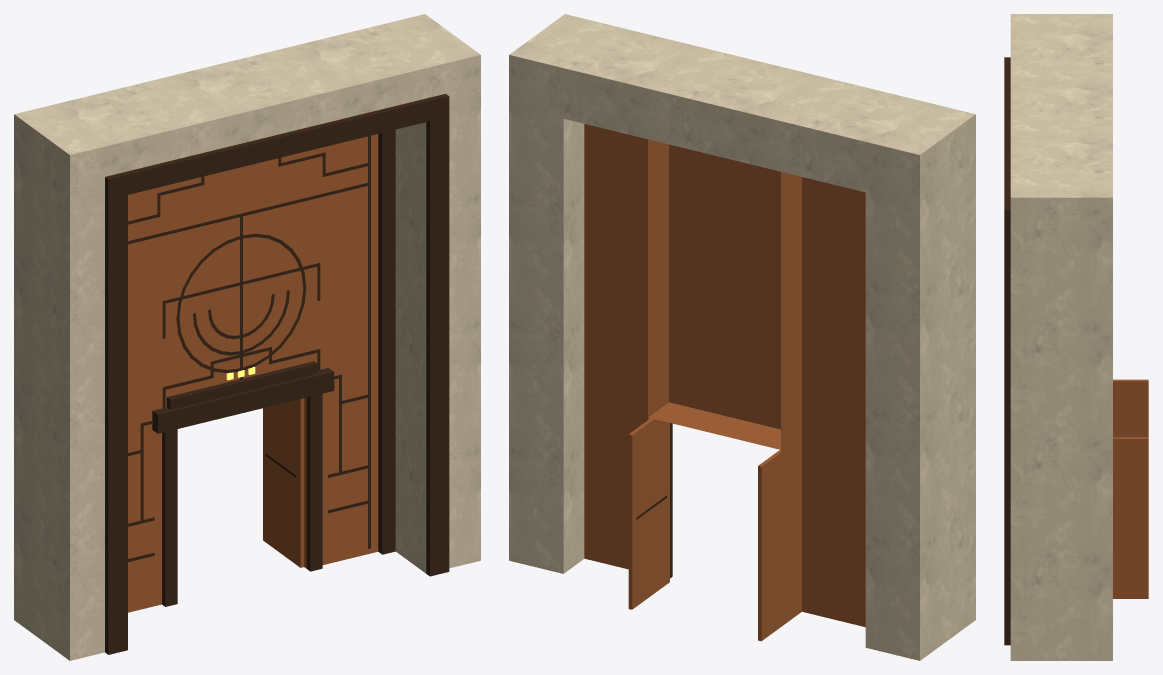
Rendered from circuit_portal.glb.
3 views of the same model, side by side, from view 1: azimuth 30°, elevation 25°; view 2: azimuth 150°, elevation 25°; view 3: azimuth 270°, elevation 25° (orthographic). The views are drawn at different scales.
Visible parts, largest first — view 1: circuit_portal; view 2: circuit_portal; view 3: circuit_portal.
Part boxes in pixels (x1=…): circuit_portal: x1=14, y1=14, x2=480, y2=660; circuit_portal: x1=509, y1=14, x2=975, y2=660; circuit_portal: x1=1004, y1=14, x2=1148, y2=660.
Size of the model in its own units: 6.8 by 8 by 2.26.
4 materials, 1 textured.
